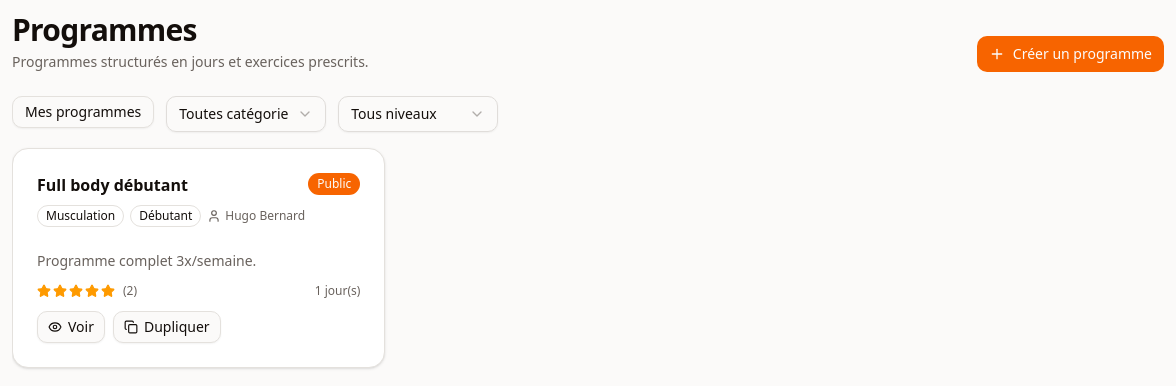
Test case: ProgramPage › filtre sur "mes programmes"
Expected: the text "Full body débutant" is shown, 37,173 -> 188,197
Click the button "Mes programmes": click(83, 112) 12,96 -> 154,128
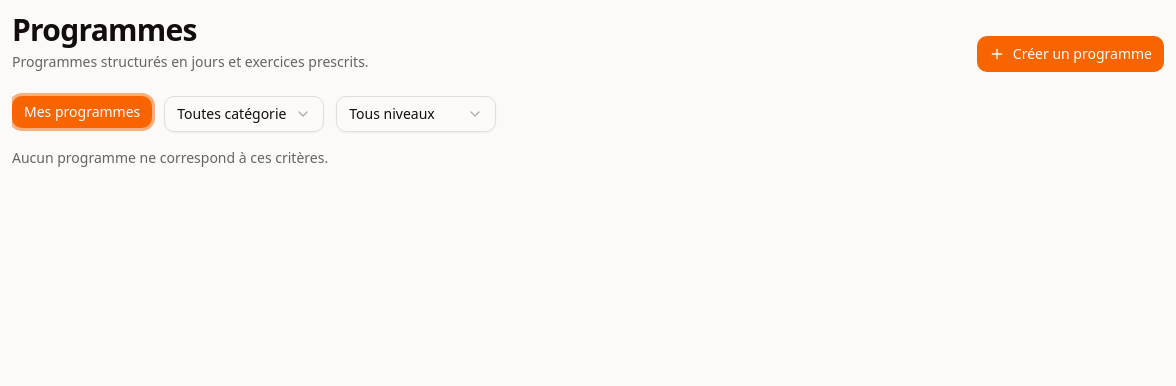
Expected: the text "Aucun programme ne correspond à ces critères." is shown, 12,148 -> 328,167
